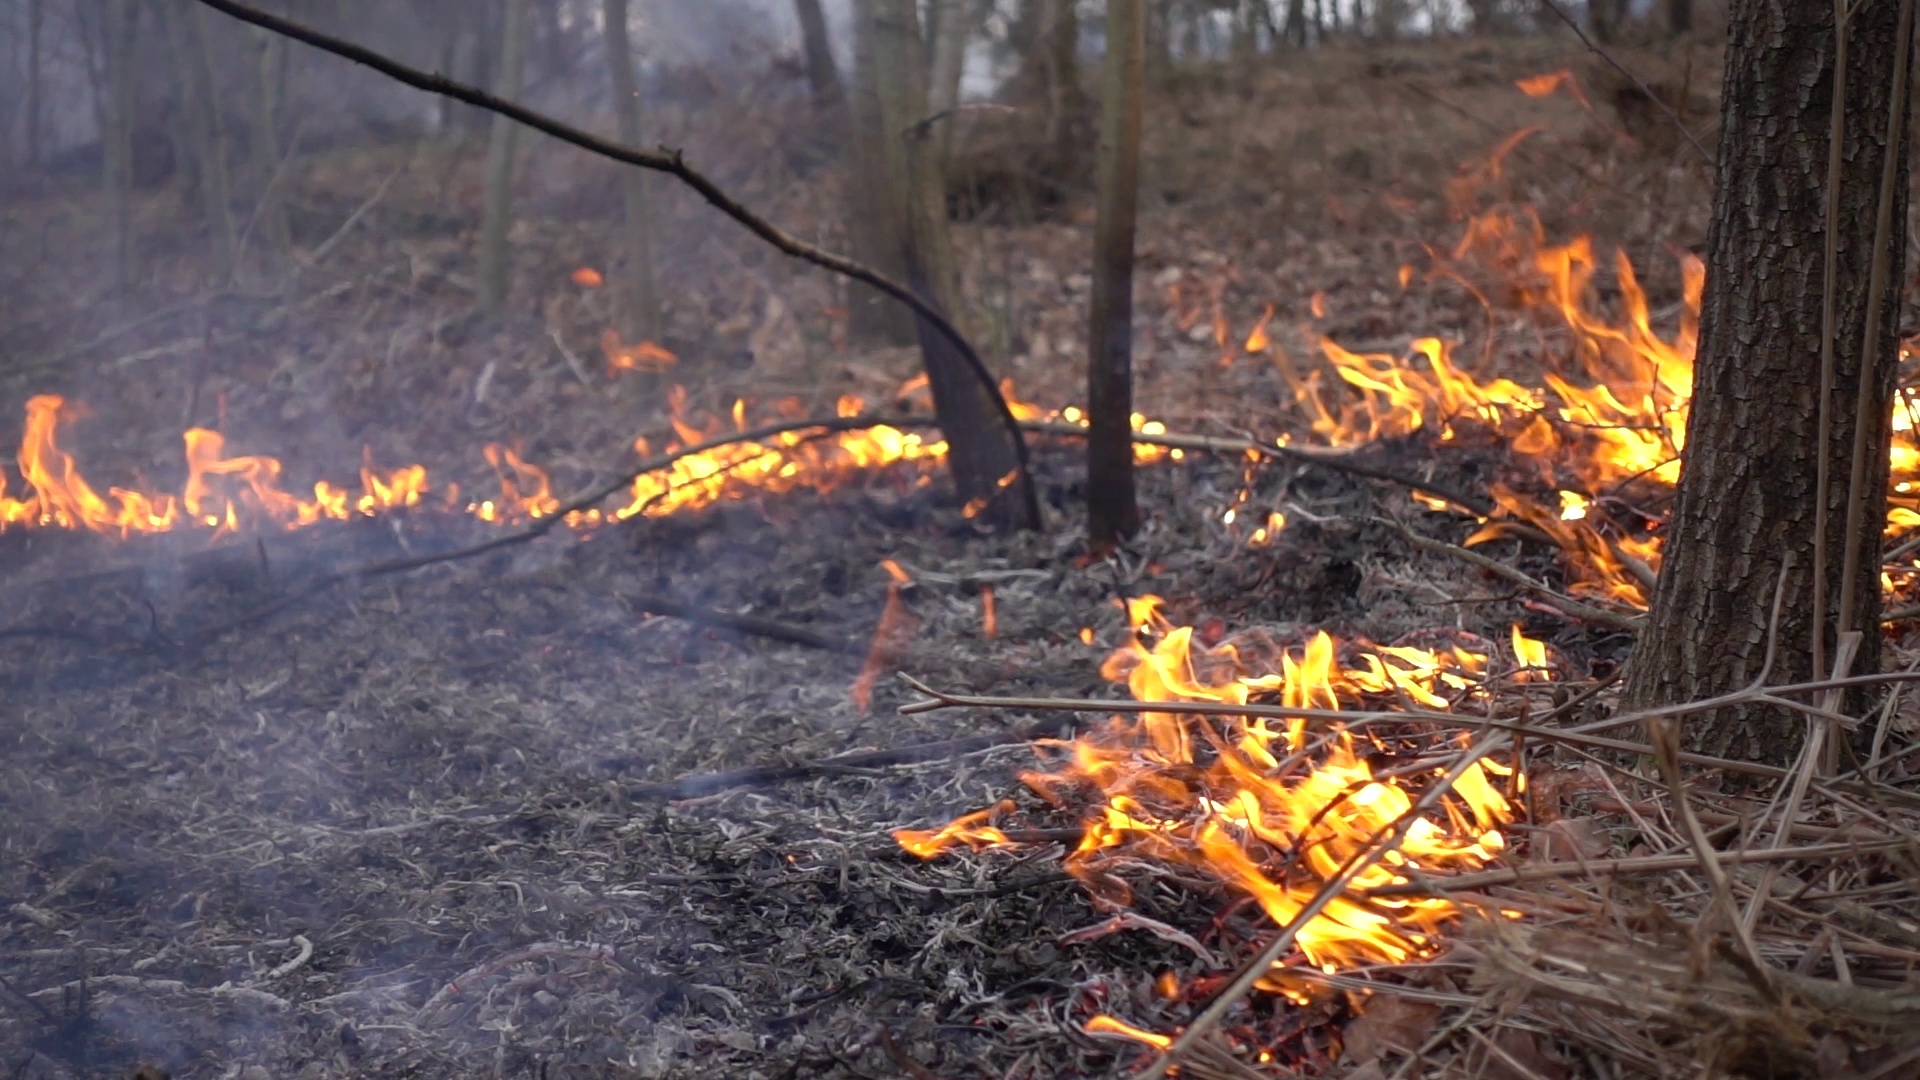fire: (1039, 589, 1518, 956), (1244, 216, 1695, 495), (634, 419, 928, 513), (113, 423, 272, 534), (1, 405, 98, 537), (479, 442, 547, 521), (1892, 375, 1920, 524), (363, 451, 429, 509), (313, 485, 342, 513)
